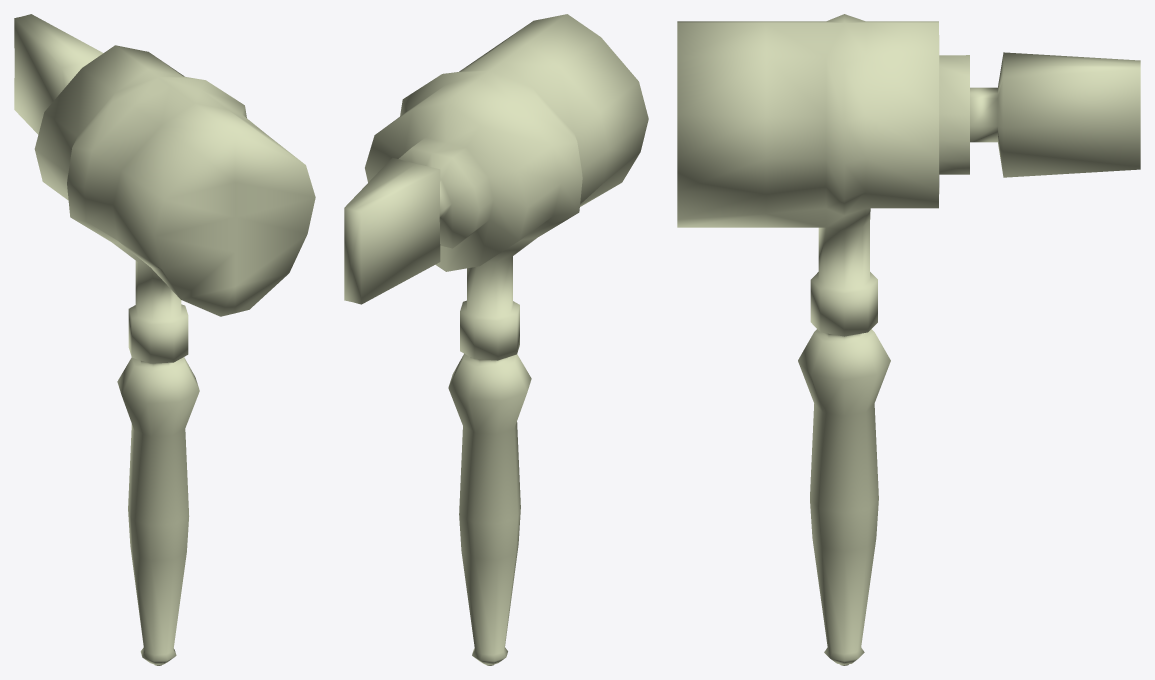
Rendered from kolvi.fbx.
3 views of the same model, side by side, from view 1: azimuth 30°, elevation 25°; view 2: azimuth 150°, elevation 25°; view 3: azimuth 270°, elevation 25° (orthographic). The views are drawn at different scales.
Parts seen in each view (by area): view 1: kolvi:kolvi; view 2: kolvi:kolvi; view 3: kolvi:kolvi.
Boxes of the visible parts, box(x1,y1,x2,y2) form: kolvi:kolvi: box(14, 14, 315, 665); kolvi:kolvi: box(344, 14, 648, 665); kolvi:kolvi: box(677, 14, 1140, 665).
Size of the model in its own units: 76.45 by 234 by 153.
